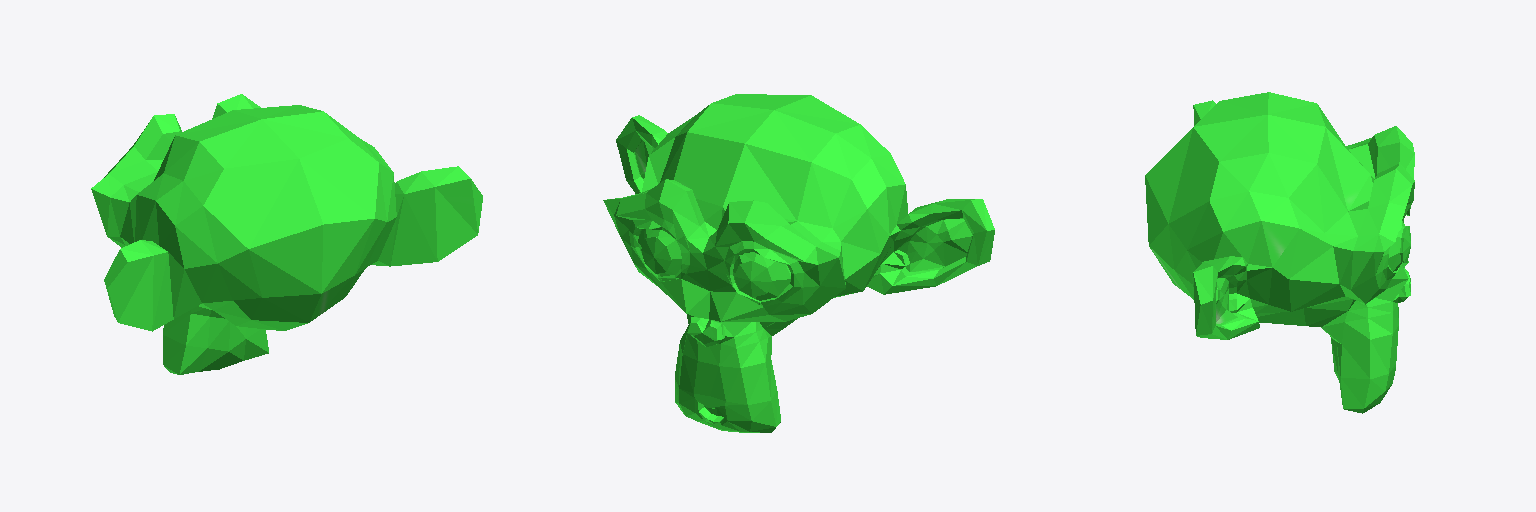
3 views of the same model, side by side, from view 1: azimuth 30°, elevation 25°; view 2: azimuth 150°, elevation 25°; view 3: azimuth 270°, elevation 25° (orthographic).
Parts seen in each view (by area): view 1: Suzanne; view 2: Suzanne; view 3: Suzanne.
Boxes of the visible parts, x1,y1,x2,y2 form: Suzanne: [91, 94, 482, 374]; Suzanne: [603, 94, 994, 432]; Suzanne: [1145, 92, 1414, 413].
Bounding box in the file's own units: 2.73 × 1.97 × 1.7.
1 materials, 1 textured.